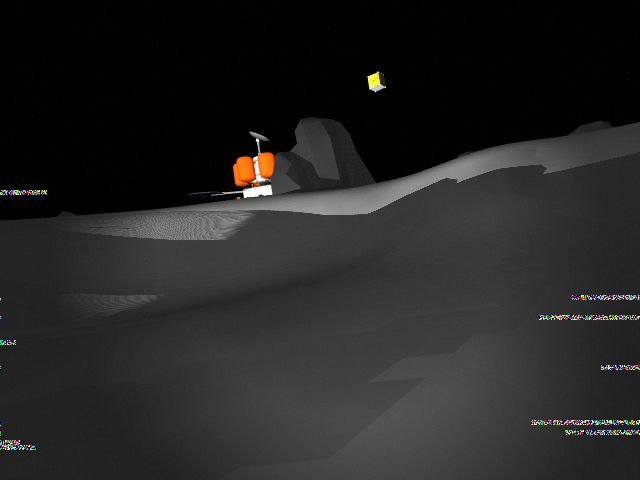cubesat: (361, 67, 397, 95)
